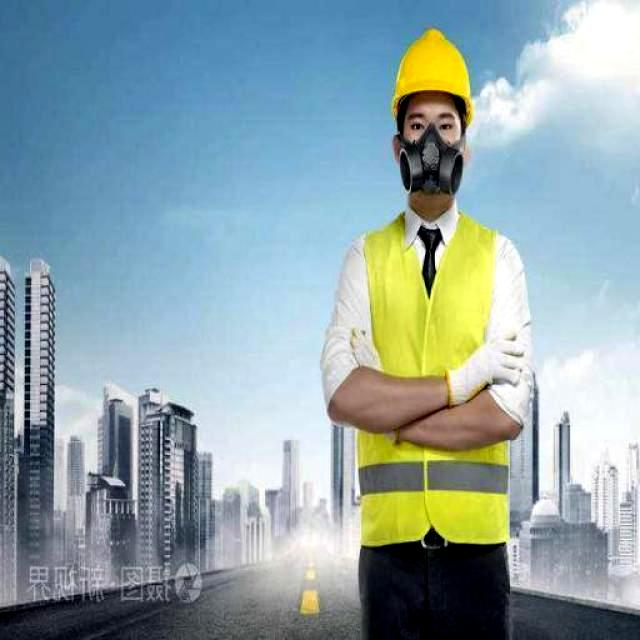hard_hat: (391, 30, 472, 125)
person: (321, 30, 532, 639)
